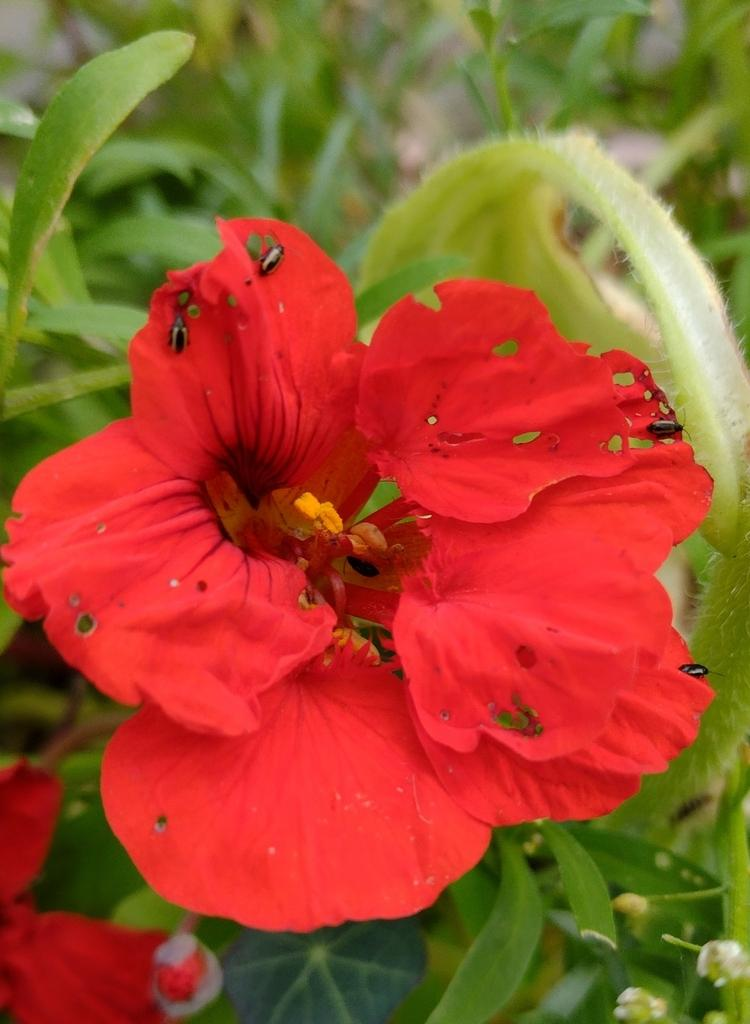flea_beetle: (640, 404, 701, 452), (253, 229, 290, 284), (158, 308, 200, 356), (675, 654, 724, 689)
